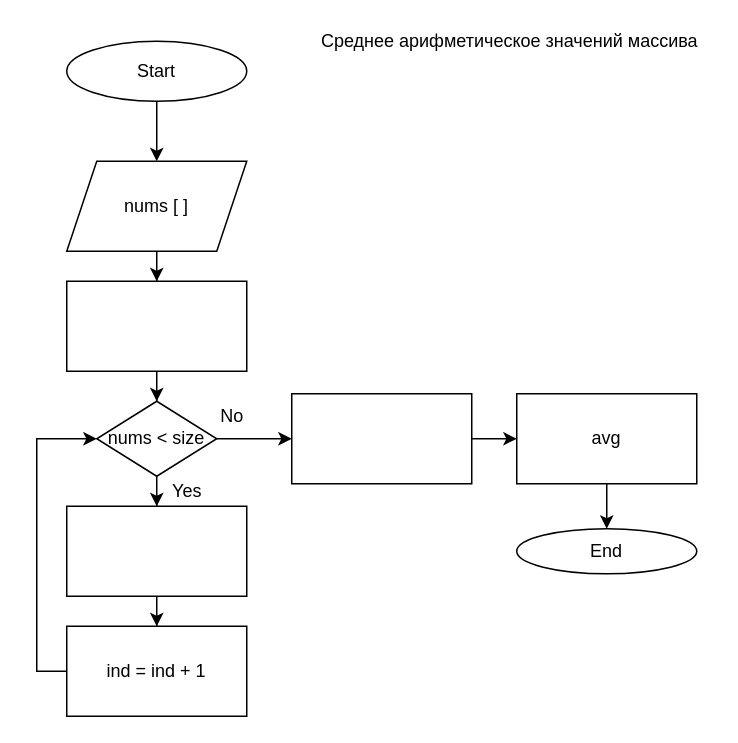
The diagram is 738 pixels wide and 743 high, and some of its shapes have lost their labels. The box of each missing label's shape, as (x1, y1, x2, y2) in pixels:
avg = sum/(size-1): (290, 392, 472, 484)
size = nums.length ind = 0 sum = 0 avg = 0: (65, 280, 247, 371)
sum = sum + ind: (65, 505, 247, 596)
